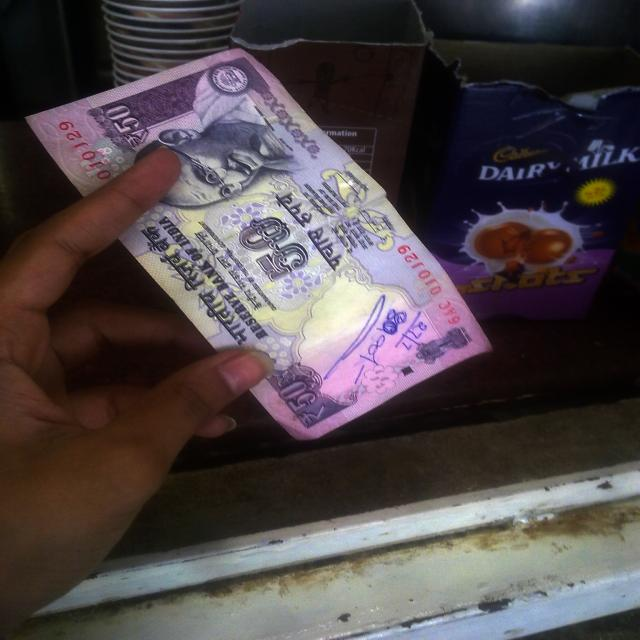50rs: (25, 46, 497, 435)
